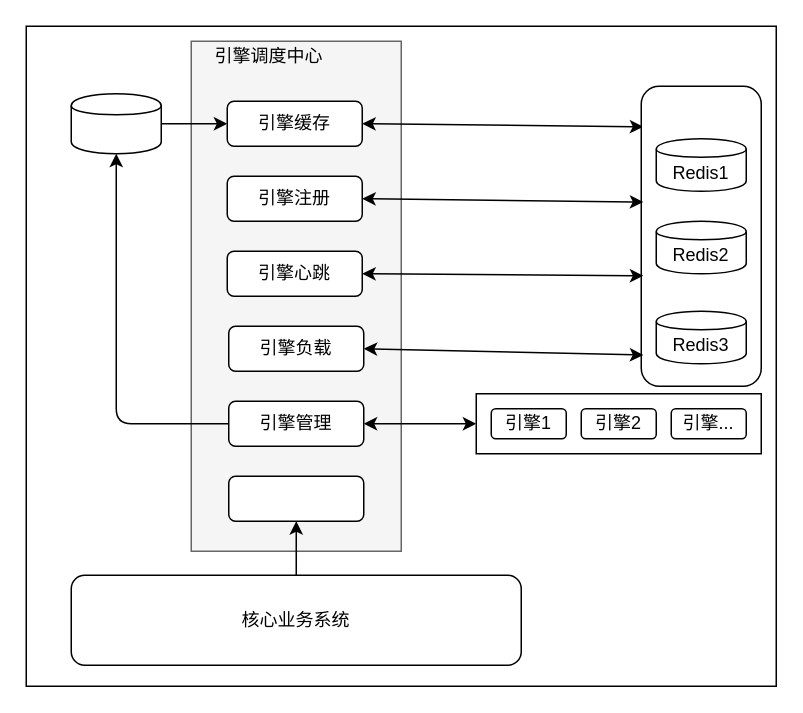
The diagram is 803 pixels wide and 713 high, and some of its shapes have lost their labels. The centre of each missing label's shape, as x and y in pixels:
"MySQL" goes at pixel 115 123.
"引擎调度API" goes at pixel 295 498.
